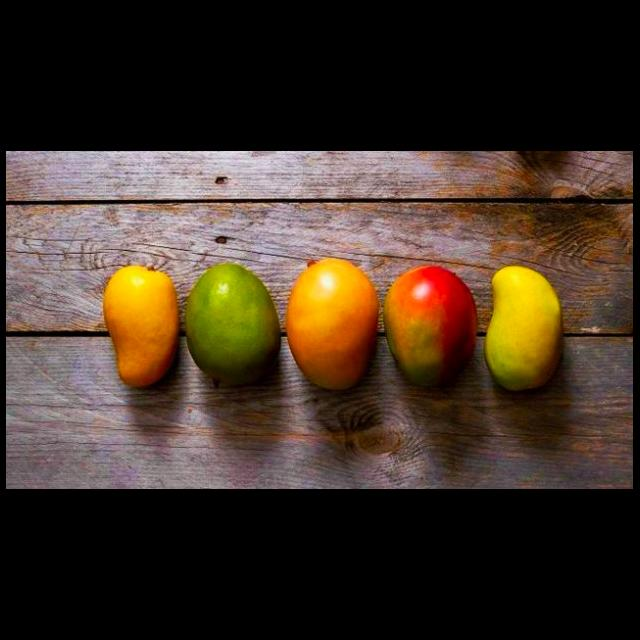mango: (284, 247, 381, 404), (85, 247, 182, 400), (383, 255, 477, 404), (478, 251, 570, 397)
